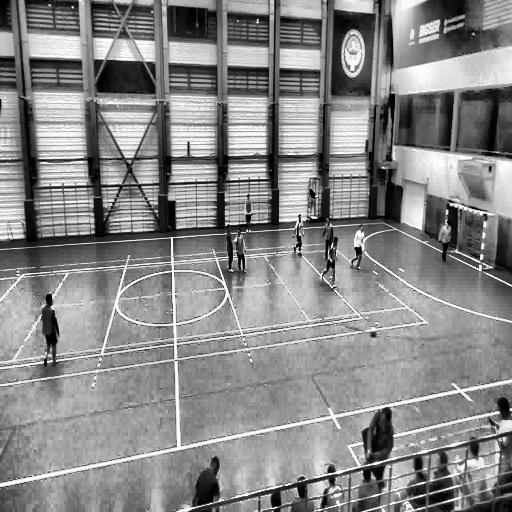ball: (370, 324, 378, 341)
player: (41, 292, 60, 368), (320, 235, 340, 291), (350, 223, 365, 271), (322, 214, 336, 262), (439, 218, 451, 264), (235, 227, 246, 274), (293, 214, 303, 256), (226, 224, 234, 272), (245, 195, 252, 230)
